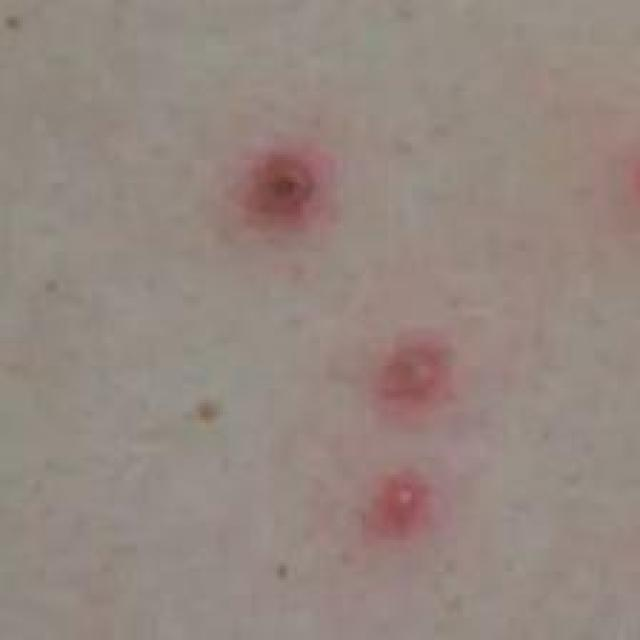monkeypox: (150, 93, 530, 588)
